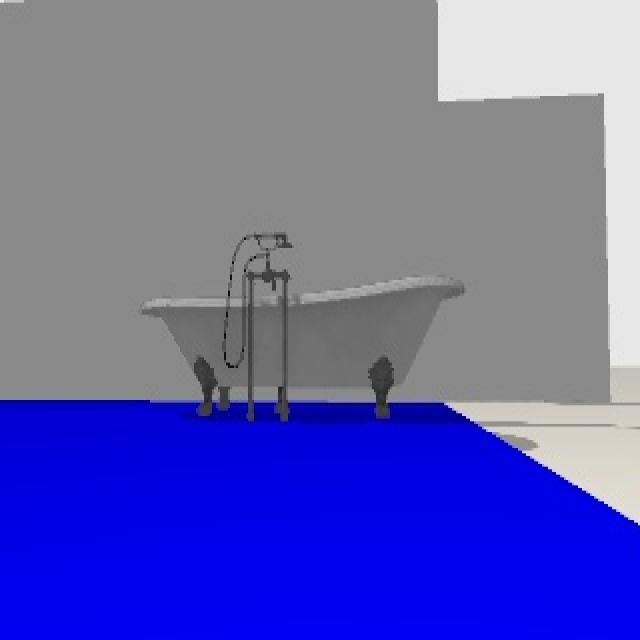bathtub: (140, 235, 468, 421)
